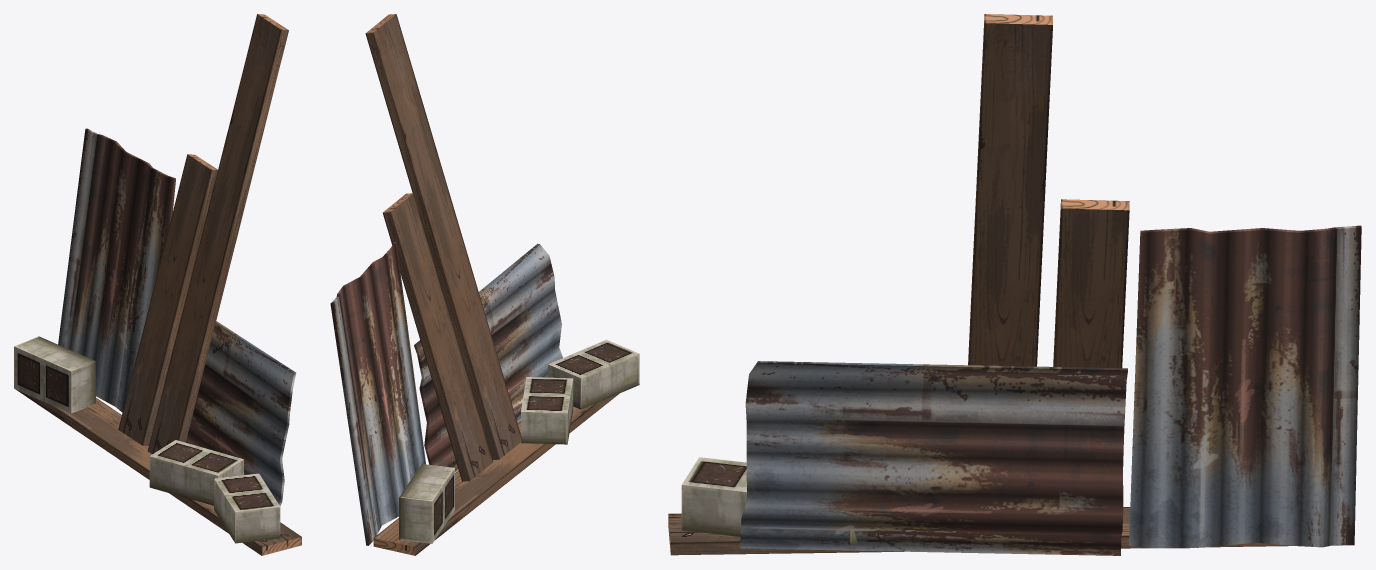
File: raisedBed_dressing05.fbx
3 views of the same model, side by side, from view 1: azimuth 30°, elevation 25°; view 2: azimuth 150°, elevation 25°; view 3: azimuth 270°, elevation 25° (orthographic). The views are drawn at different scales.
Visible parts, largest first — view 1: raisedBed_dressing05; view 2: raisedBed_dressing05; view 3: raisedBed_dressing05.
Part boxes in pixels (left/top/right/bottom): raisedBed_dressing05: left=14, top=14, right=301, bottom=555; raisedBed_dressing05: left=330, top=14, right=639, bottom=555; raisedBed_dressing05: left=668, top=14, right=1361, bottom=555.
Bounding box in the file's own units: 97.24 × 242 × 252.
